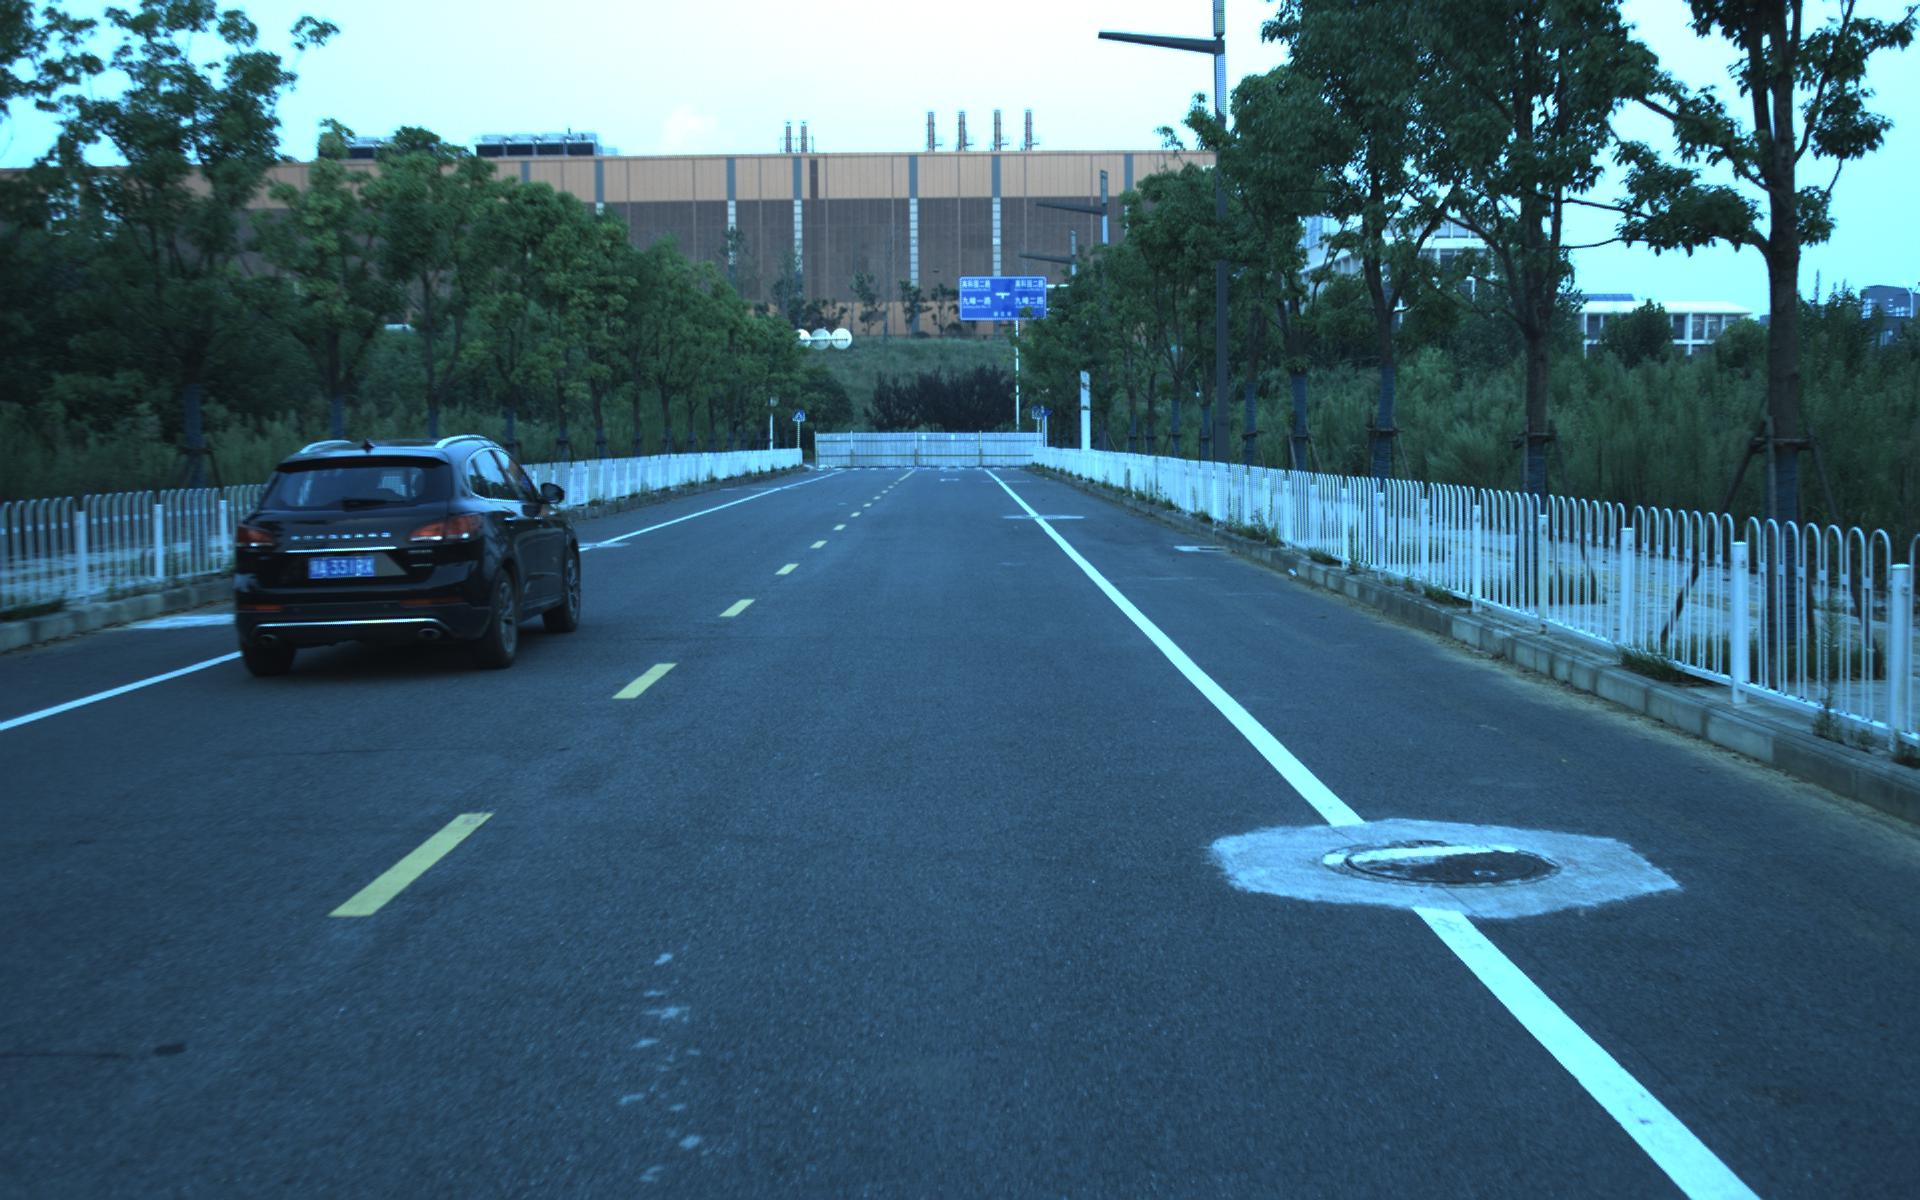Car: (216, 427, 586, 682)
